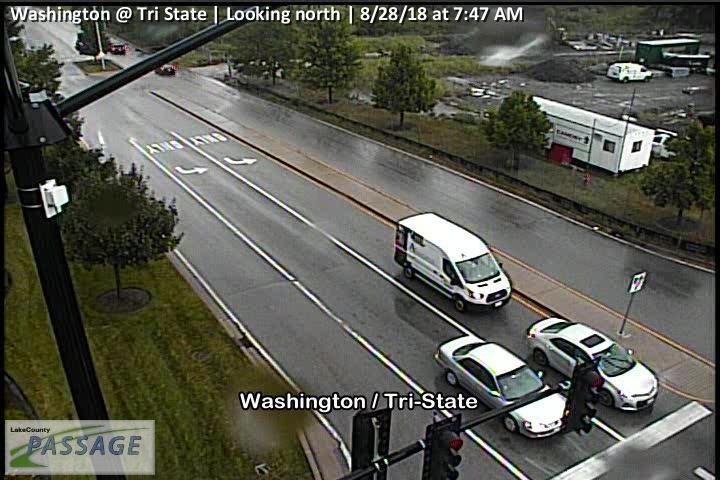SUV: (394, 213, 513, 313), (604, 62, 654, 82)
Sedan: (434, 333, 576, 439), (526, 317, 658, 411)
